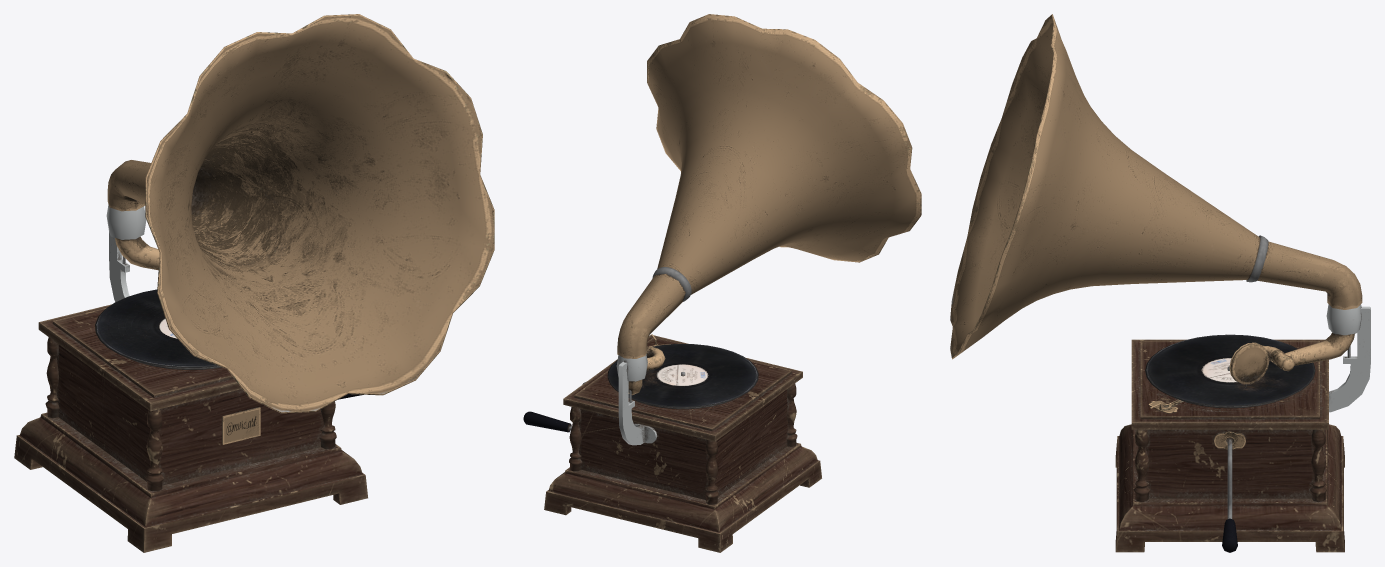
File: study_phonograph.glb
The picture shows the model from 3 angles, left to right: view 1: azimuth 30°, elevation 25°; view 2: azimuth 150°, elevation 25°; view 3: azimuth 270°, elevation 25°; orthographic projection. The views are drawn at different scales.
Parts seen in each view (by area): view 1: Plane.001, Cube.001, Cube.003, Cube.002, Cylinder.003, Plane.007, Plane.003, Cylinder.002, Plane; view 2: Plane.001, Cube.001, Cube.003, Cylinder.003, Cube.002, Plane, Cylinder.001, Plane.003; view 3: Plane.001, Cube.001, Cube.003, Cylinder.003, Plane, Cube.002, Cylinder.002, Cylinder.006, Plane.003.
Boxes of the visible parts, x1=… form: Plane.001: x1=145, y1=14, x2=494, y2=413; Cube.001: x1=14, y1=304, x2=367, y2=552; Cube.003: x1=95, y1=289, x2=218, y2=367; Cube.002: x1=45, y1=337, x2=336, y2=491; Cylinder.003: x1=107, y1=160, x2=151, y2=211; Plane.007: x1=222, y1=407, x2=260, y2=444; Plane.003: x1=106, y1=204, x2=146, y2=239; Cylinder.002: x1=115, y1=236, x2=159, y2=270; Plane: x1=109, y1=231, x2=129, y2=301; Plane.001: x1=647, y1=14, x2=921, y2=294; Cube.001: x1=544, y1=335, x2=821, y2=552; Cube.003: x1=607, y1=344, x2=758, y2=407; Cylinder.003: x1=617, y1=273, x2=686, y2=358; Cube.002: x1=569, y1=383, x2=797, y2=504; Plane: x1=618, y1=361, x2=657, y2=445; Cylinder.001: x1=523, y1=411, x2=571, y2=432; Plane.003: x1=616, y1=354, x2=647, y2=381; Plane.001: x1=950, y1=14, x2=1260, y2=359; Cube.001: x1=1115, y1=339, x2=1344, y2=552; Cube.003: x1=1145, y1=334, x2=1315, y2=406; Cylinder.003: x1=1257, y1=241, x2=1362, y2=309; Plane: x1=1329, y1=306, x2=1370, y2=412; Cube.002: x1=1133, y1=429, x2=1326, y2=502; Cylinder.002: x1=1270, y1=332, x2=1354, y2=371; Cylinder.006: x1=1229, y1=342, x2=1269, y2=384; Plane.003: x1=1326, y1=304, x2=1361, y2=335.
Bounding box in the file's own units: 93.84 × 128 × 105.
Materials: 1 (1 with a texture image).
